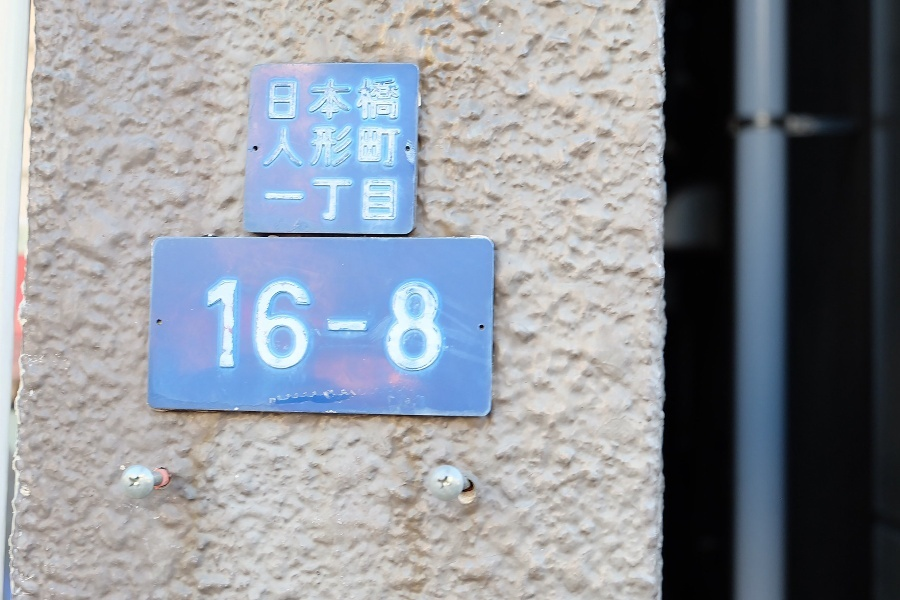text: (209, 277, 224, 374), (225, 277, 240, 374), (241, 277, 256, 374), (257, 277, 272, 374), (273, 277, 288, 374), (289, 277, 304, 374), (305, 277, 320, 374), (321, 277, 336, 374), (337, 277, 352, 374), (353, 277, 368, 374), (369, 277, 384, 374), (385, 277, 400, 374), (401, 277, 416, 374), (417, 277, 432, 374), (433, 277, 448, 374), (385, 75, 401, 122), (273, 75, 288, 122), (289, 75, 304, 122), (305, 75, 320, 122), (321, 75, 336, 122), (337, 75, 352, 122), (353, 75, 368, 122), (369, 75, 384, 122), (273, 178, 288, 223), (289, 178, 304, 223), (305, 178, 320, 223), (321, 178, 336, 223), (337, 178, 352, 223), (353, 178, 368, 223), (369, 178, 384, 223), (273, 127, 288, 169), (289, 127, 304, 169), (305, 127, 320, 169), (321, 127, 336, 169), (337, 127, 352, 169), (353, 127, 368, 169), (369, 127, 384, 169), (385, 127, 400, 169), (385, 178, 398, 223), (267, 178, 272, 223), (267, 127, 272, 169), (269, 75, 272, 122), (401, 127, 403, 169)
